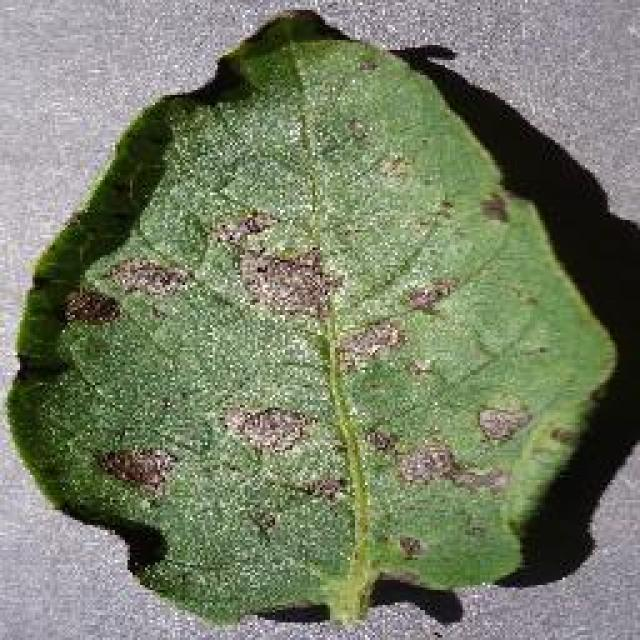Potato: (5, 8, 620, 628)
